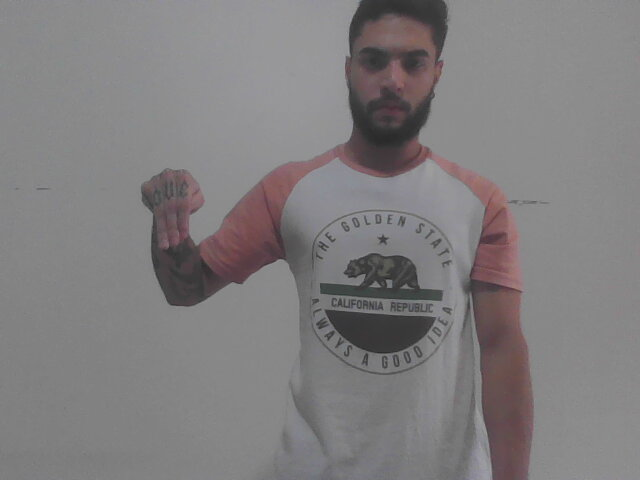m: (137, 162, 207, 251)
